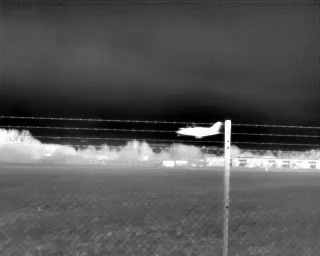AIRPLANE: (175, 120, 224, 141)
